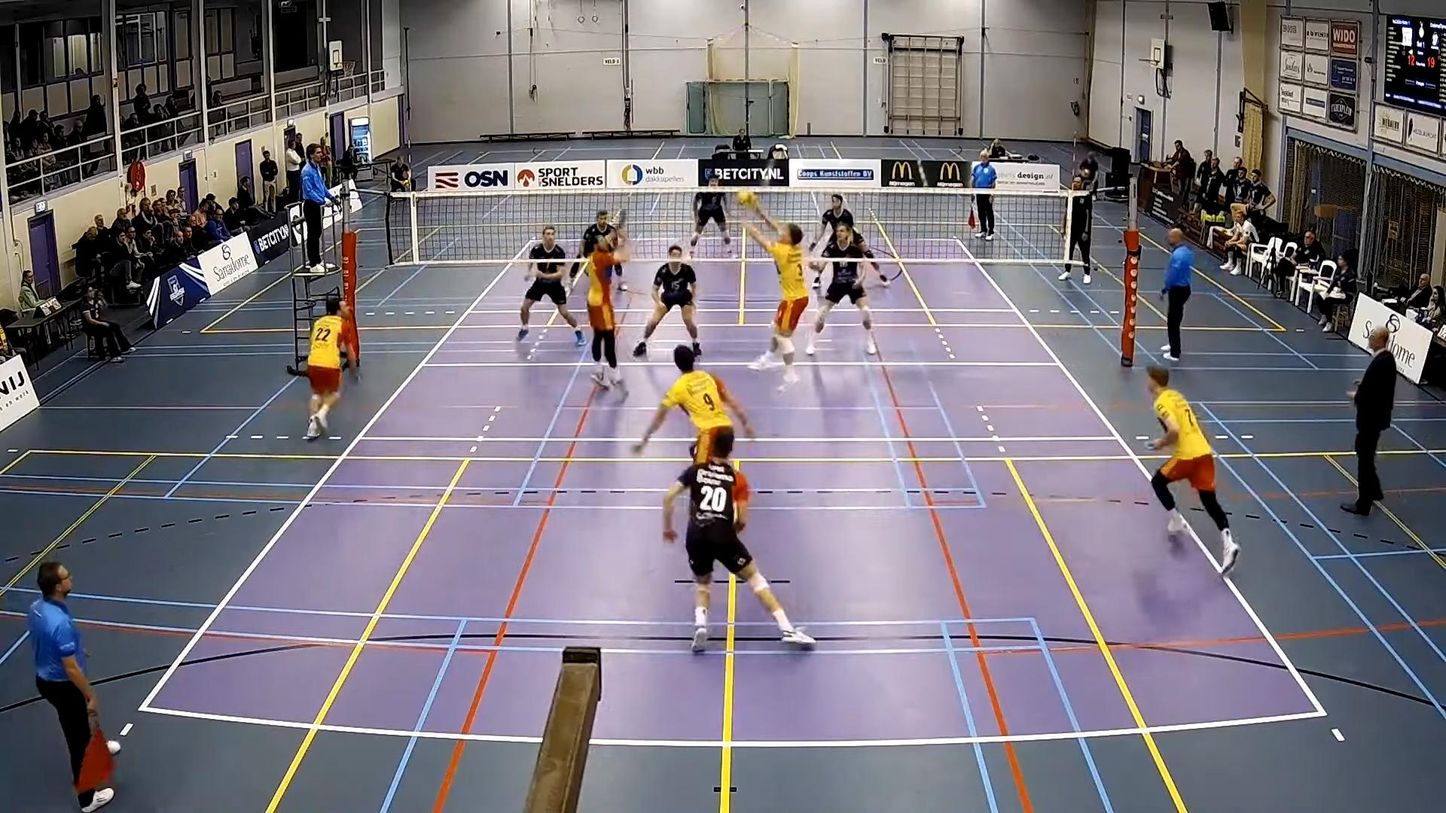alzata: (738, 200, 818, 375)
